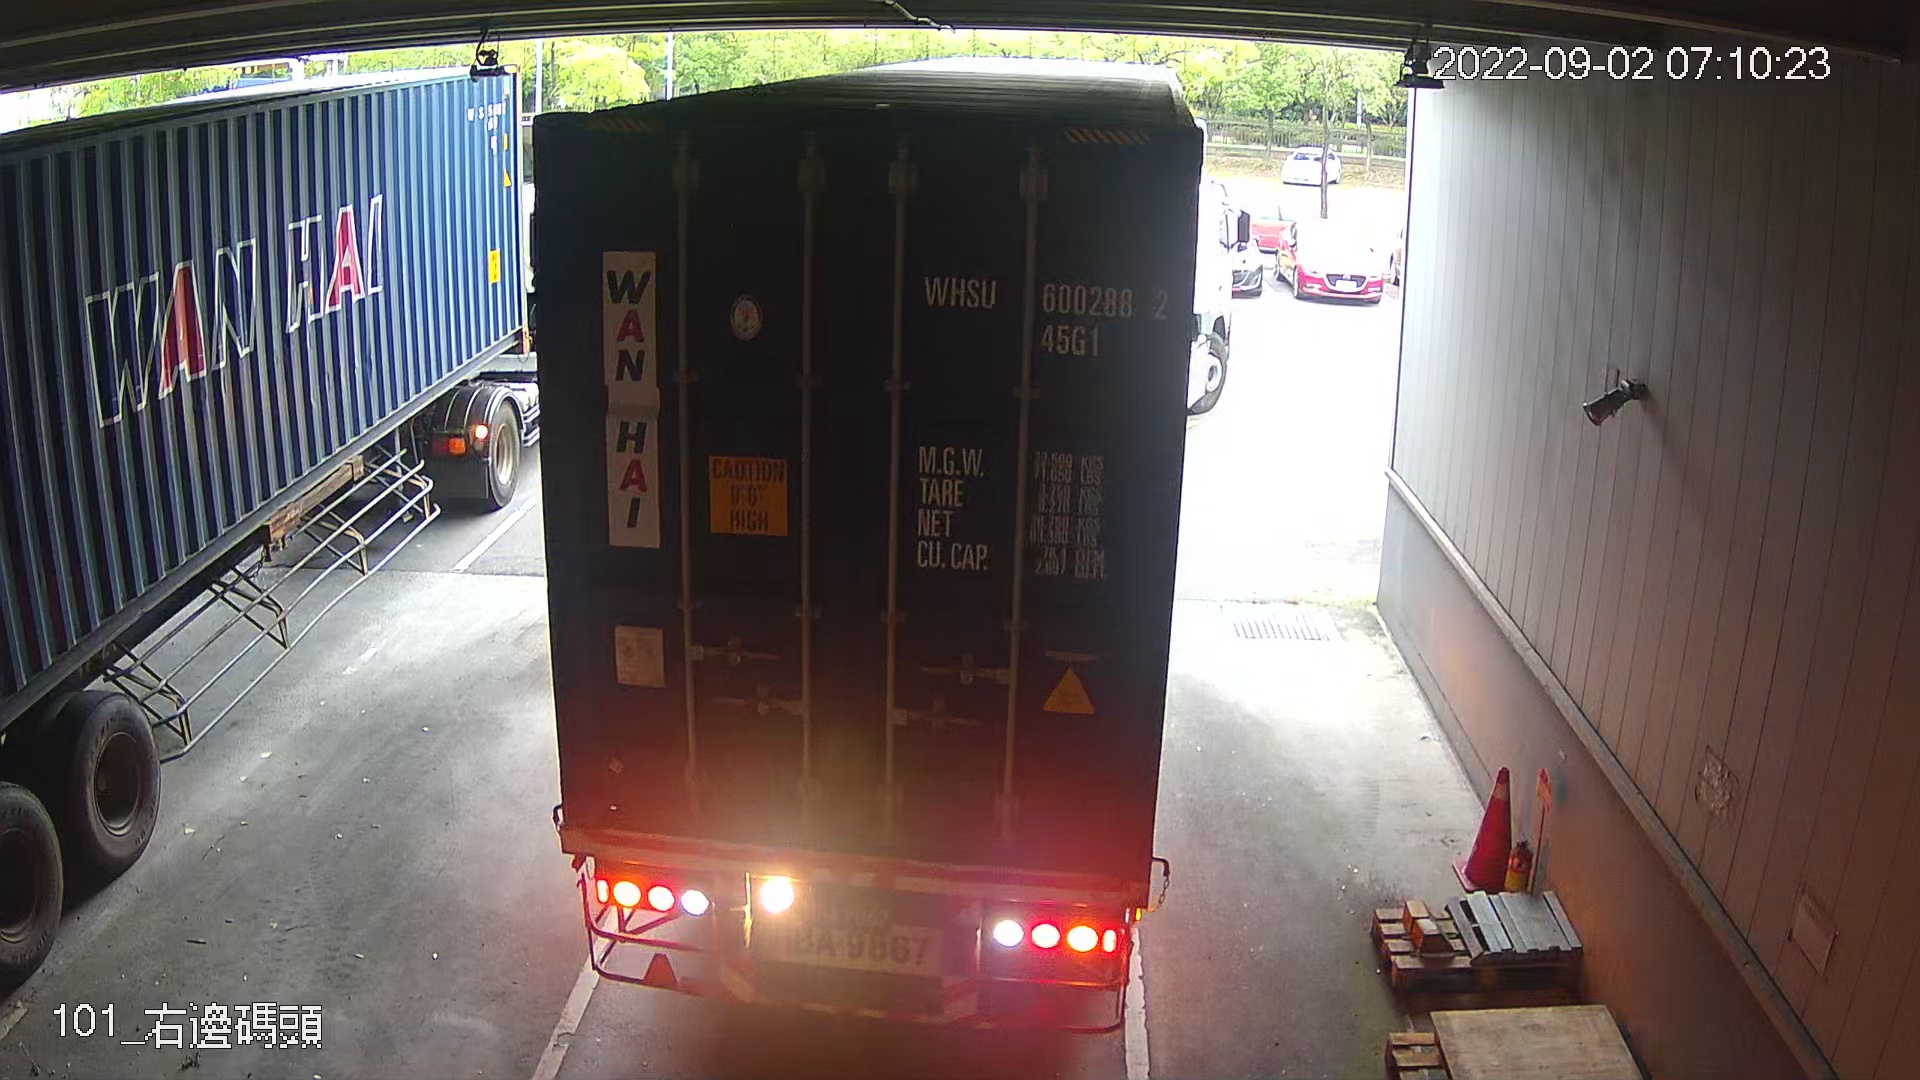container: (909, 258, 1182, 367)
